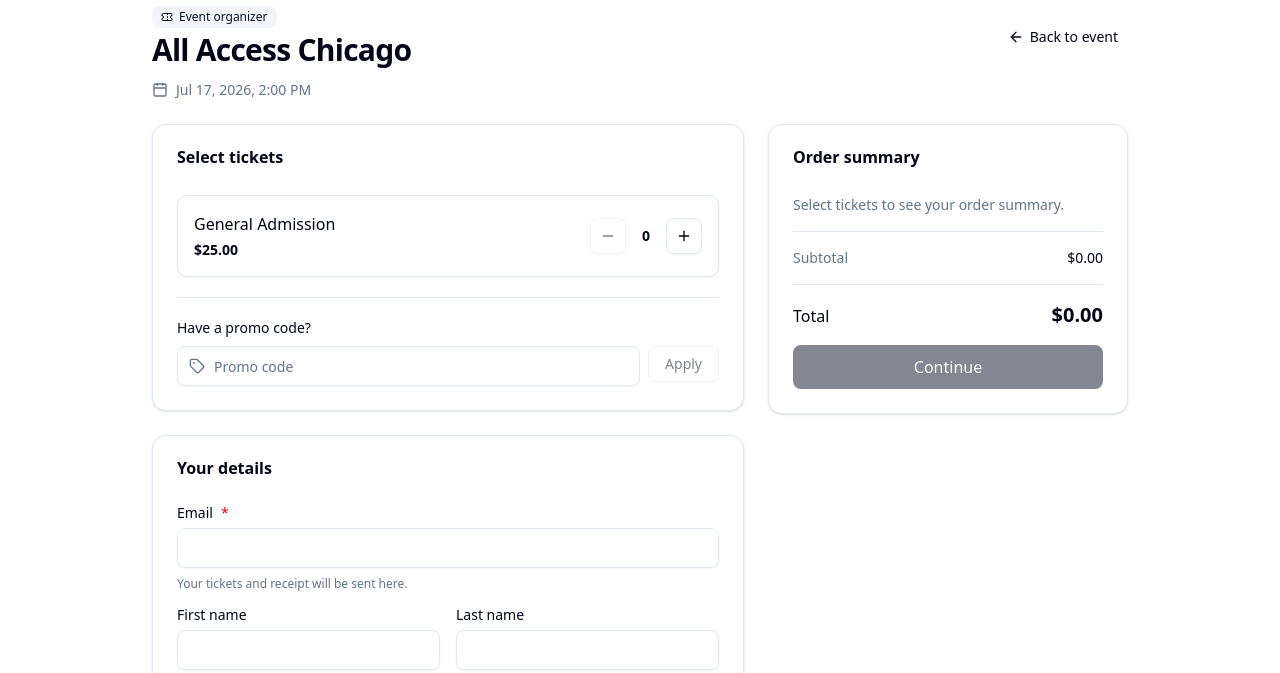
Test: CheckoutFlow buyer validation › directs buyers to the missing required checkbox question
The image size is (1280, 673).
Expected: the text "General Admission" is shown, [194,212,335,236]
Click the button named "Increase General Admission quantity".
click(684, 236)  # box [666,218,702,254]
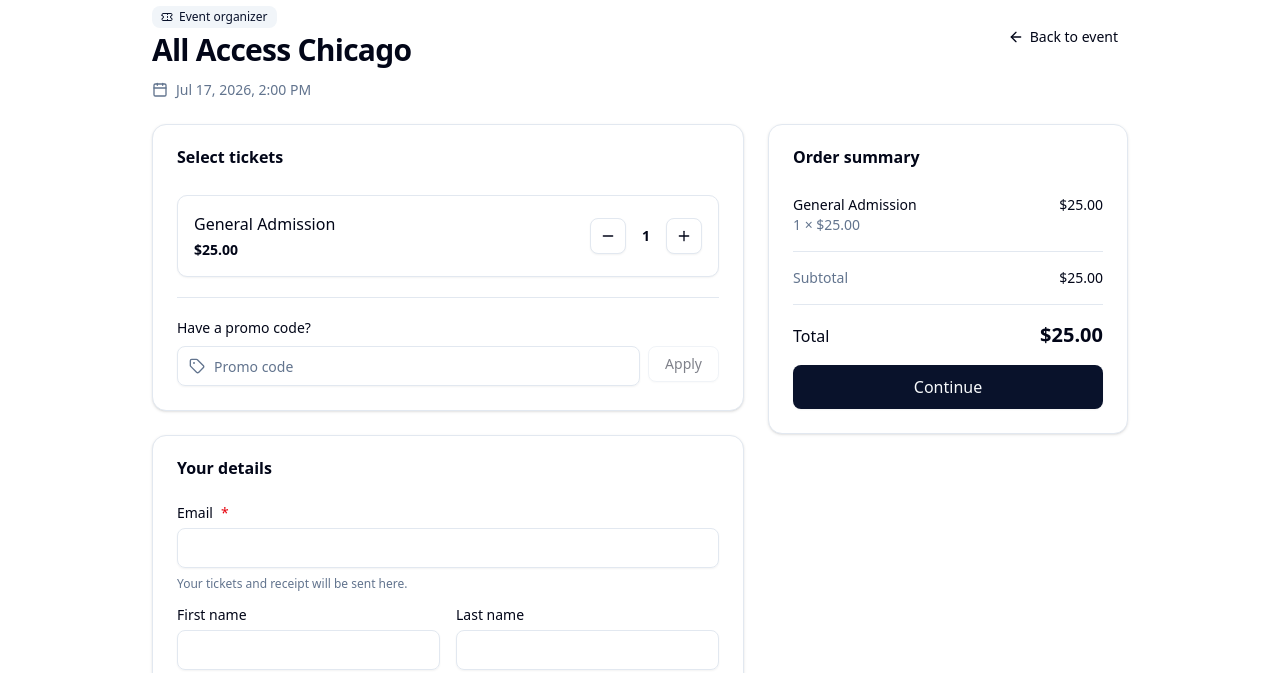
Type "buyer@example.com" into the field labelled "Email *".
click(448, 548); type("buyer@example.com")  # box [177,528,719,568]
(page scrolled)
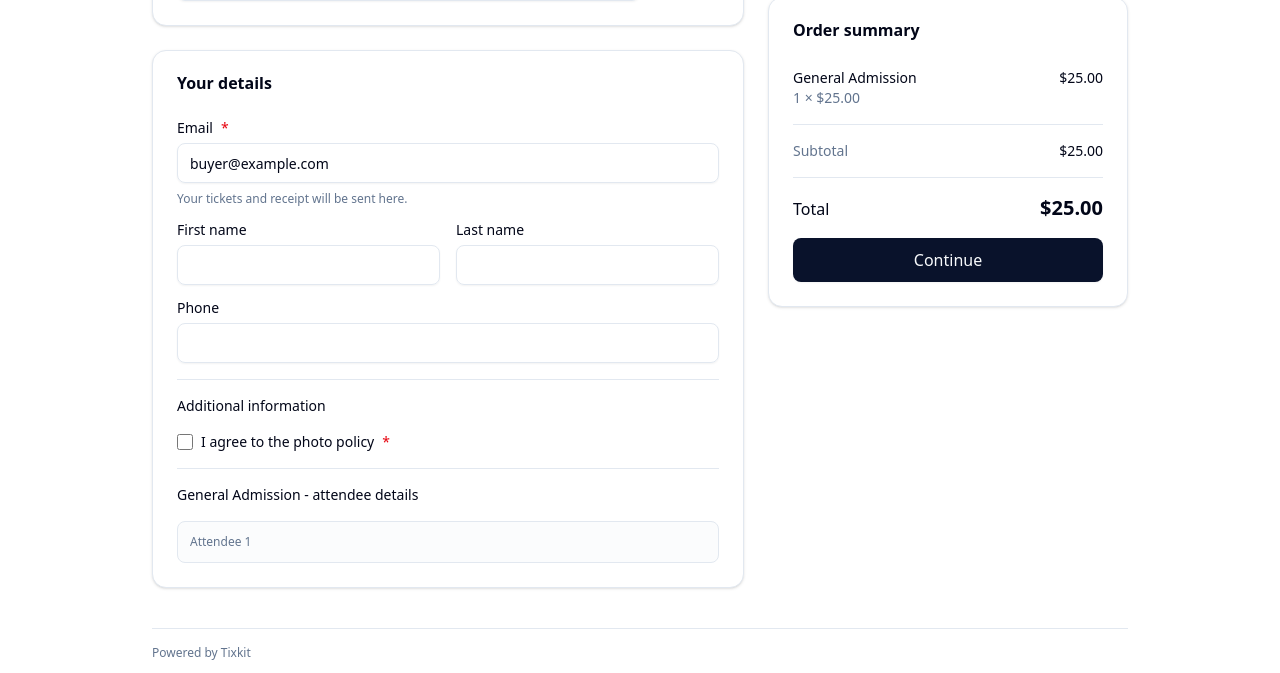
Click the checkbox labelled "I agree to the photo policy *".
click(185, 442)  # box [177,434,193,450]
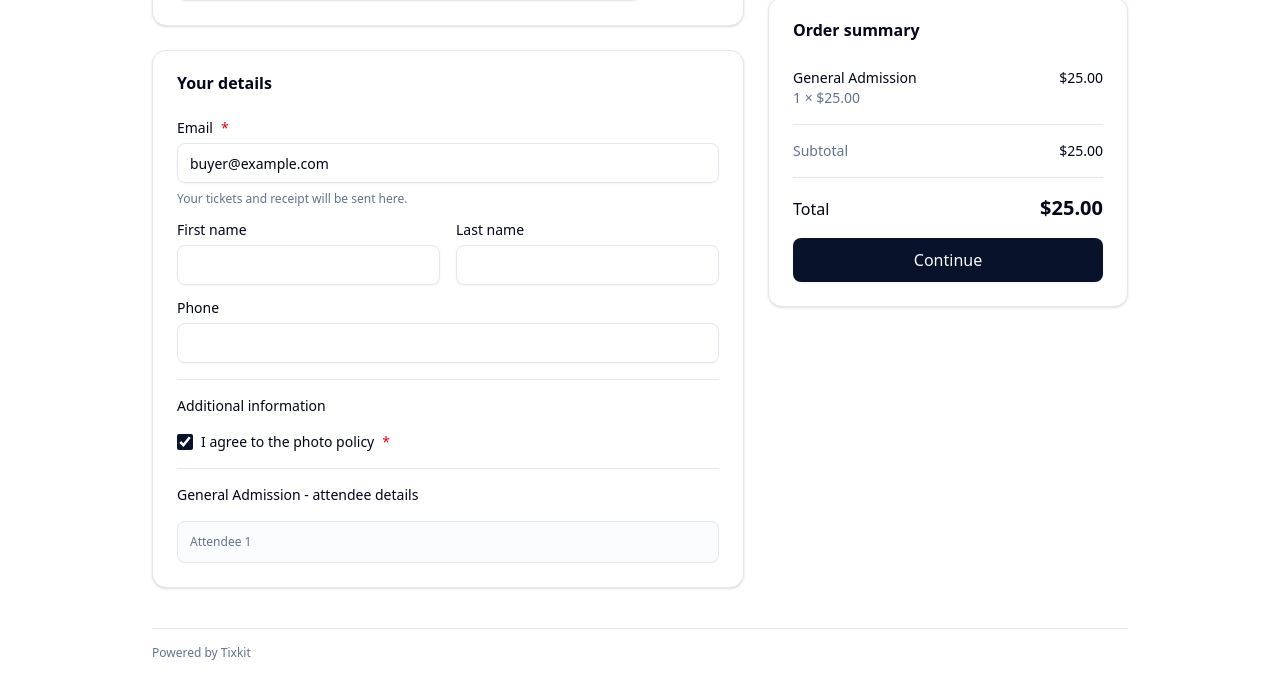
Click the checkbox labelled "I agree to the photo policy *".
click(185, 442)  # box [177,434,193,450]
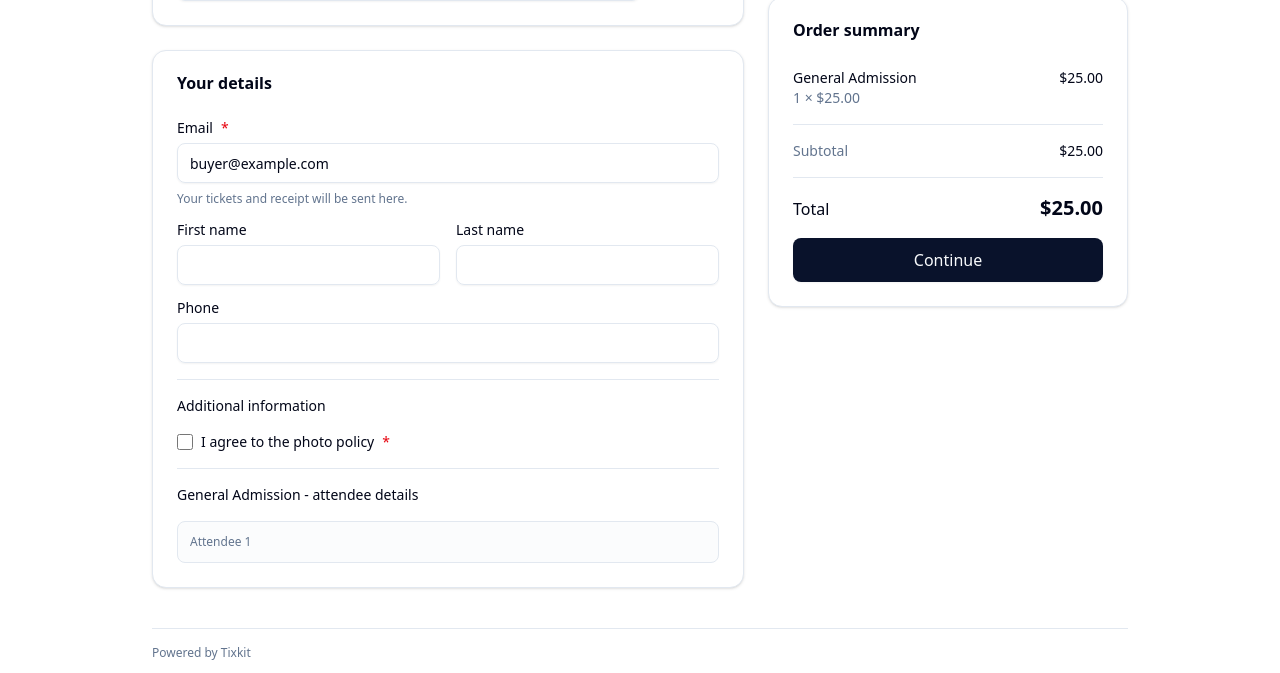
Click the button "Continue".
click(948, 260)  # box [793,238,1103,282]
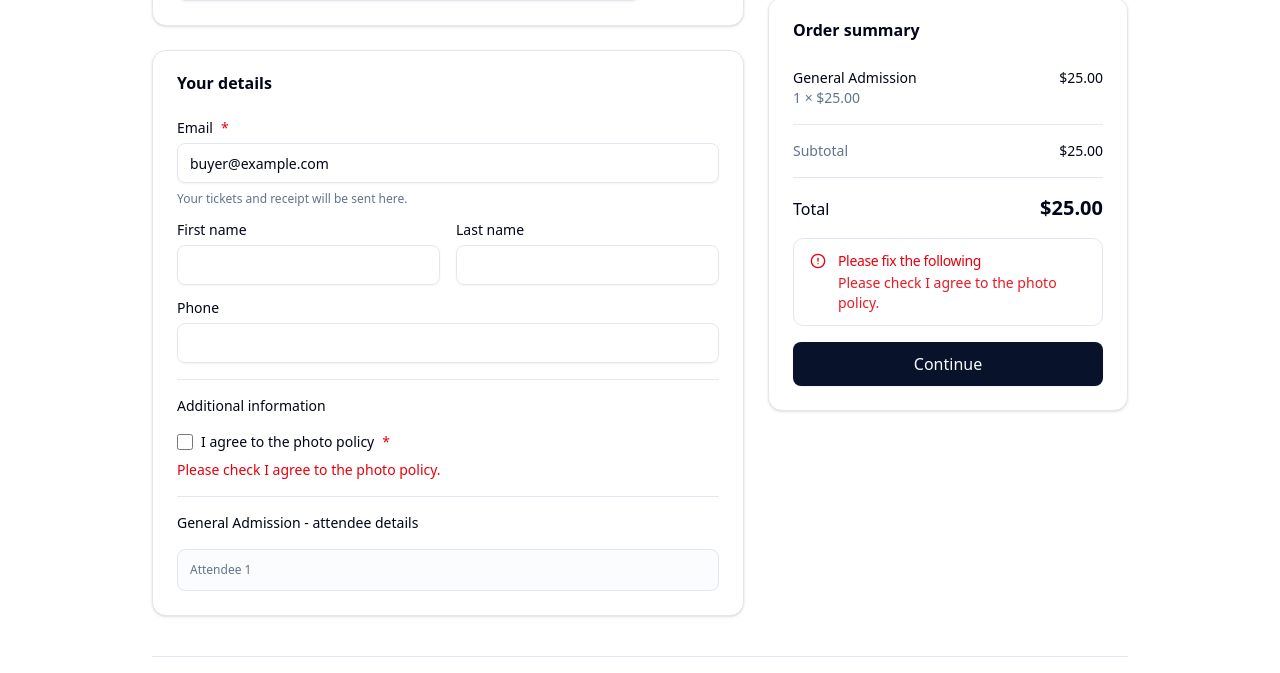
Now the text "Please check I agree to the photo policy." is shown 2 times, box [177,460,441,479]; [838,273,1086,313]
